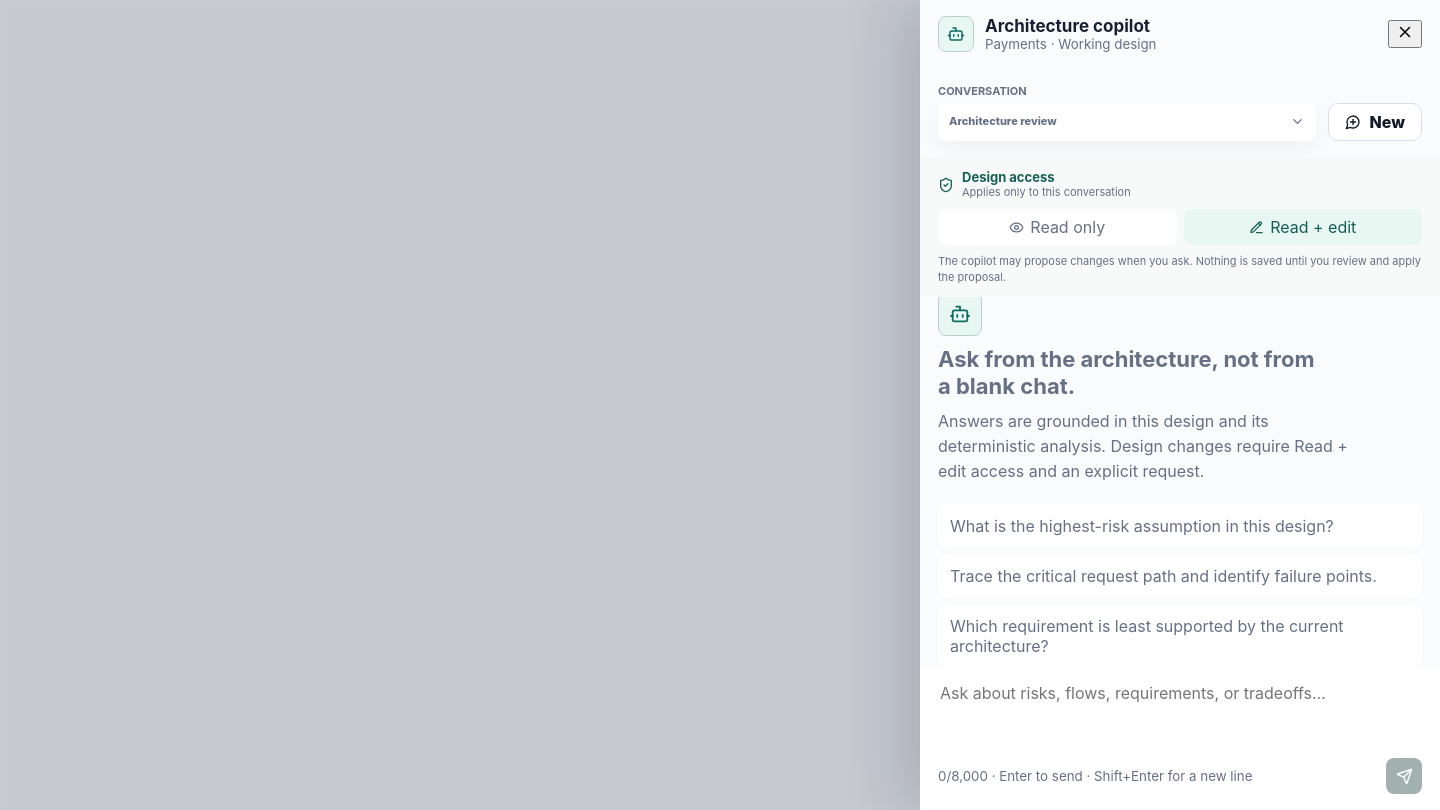
Test: AIChatPanel tool access › keeps AI changes local until Apply and lets the user discard a proposal
(page scrolled)
Expected: the button "Read + edit" is shown, [1184, 209, 1422, 245]
Type "Add a database" into the text box with placeholder "Ask about risks, flows, requirements, or tradeoffs…" at (1180, 717), box [938, 680, 1422, 754]
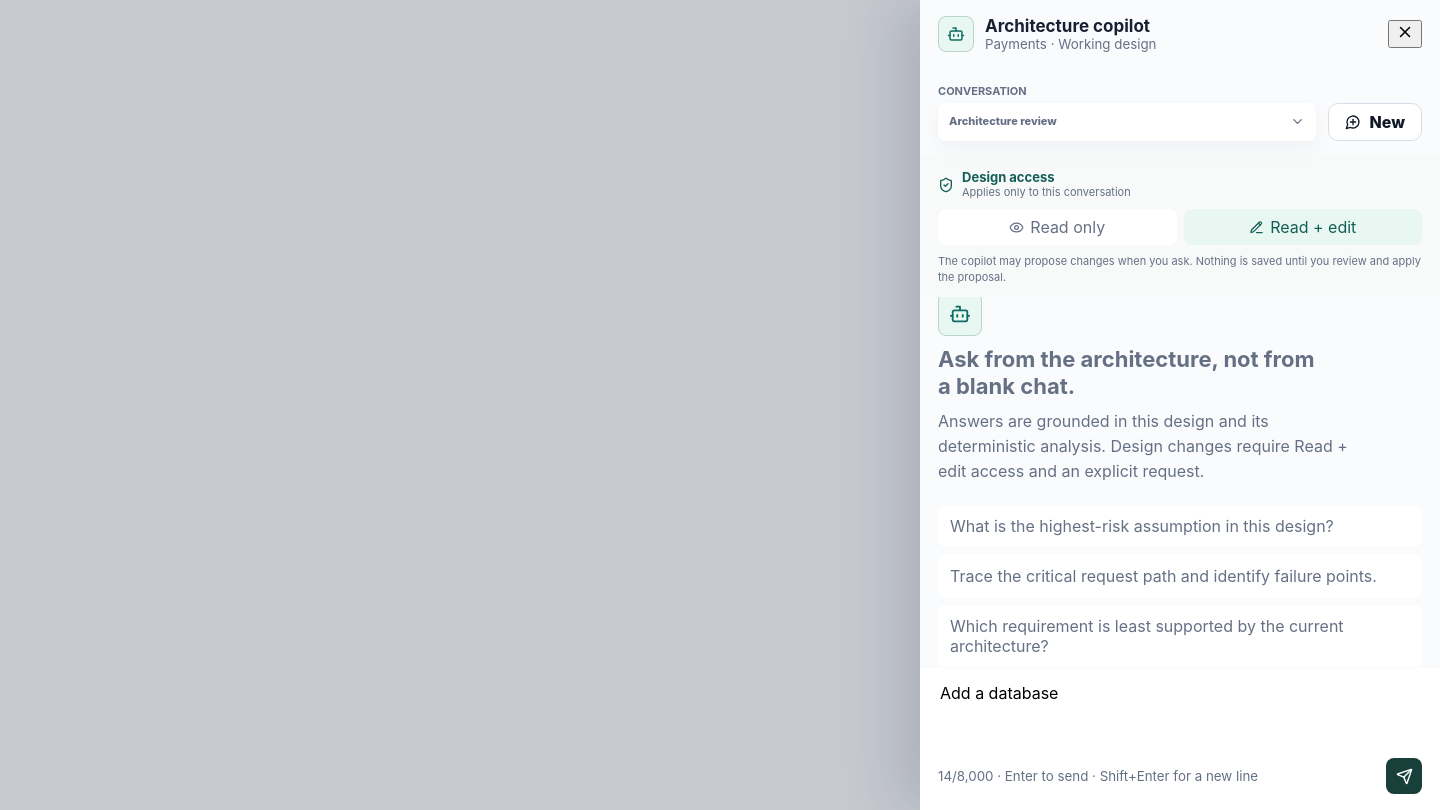
Click the button named "Send message" at (1404, 776), box [1386, 758, 1422, 794]
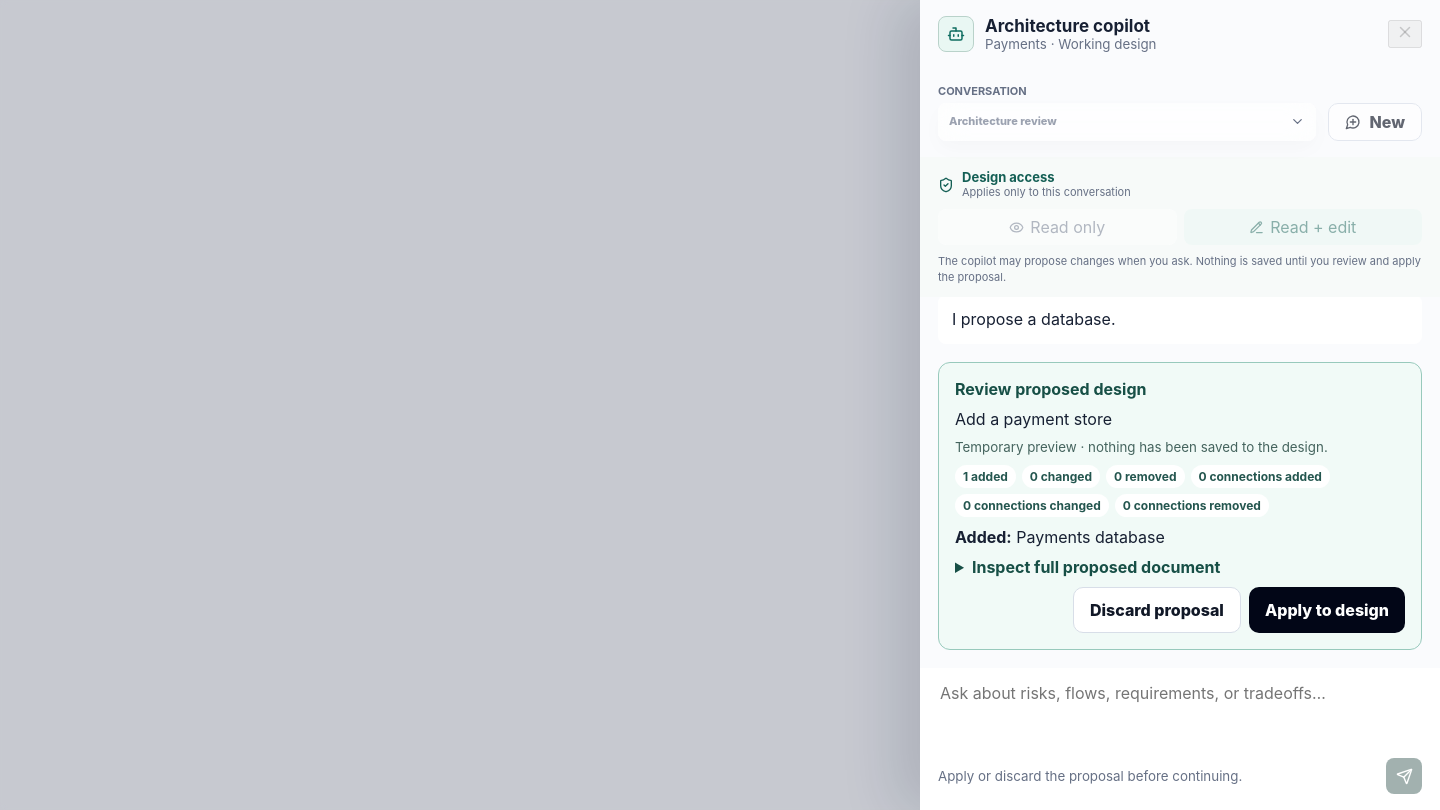
Expected: the text "Add a payment store" is shown, [955, 409, 1112, 429]
Expected: the text "Payments database" is shown, [1016, 527, 1165, 547]
Expected: the button named "Send message" is disabled, [1386, 758, 1422, 794]
Click the button "Discard proposal" at (1157, 610), box [1073, 587, 1241, 633]
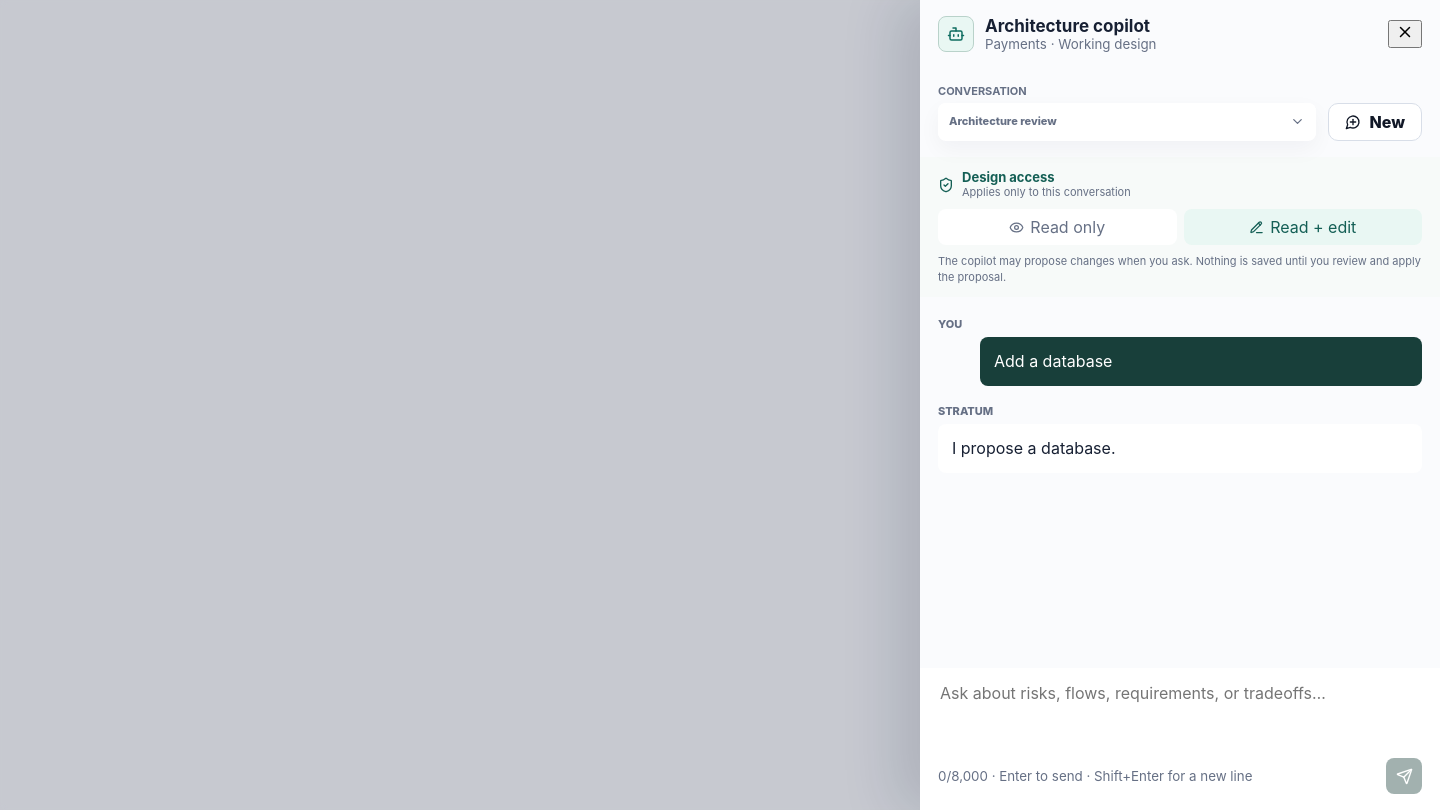
Expected: the text "Add a payment store" is gone
Type "Add a database" into the text box with placeholder "Ask about risks, flows, requirements, or tradeoffs…" at (1180, 717), box [938, 680, 1422, 754]
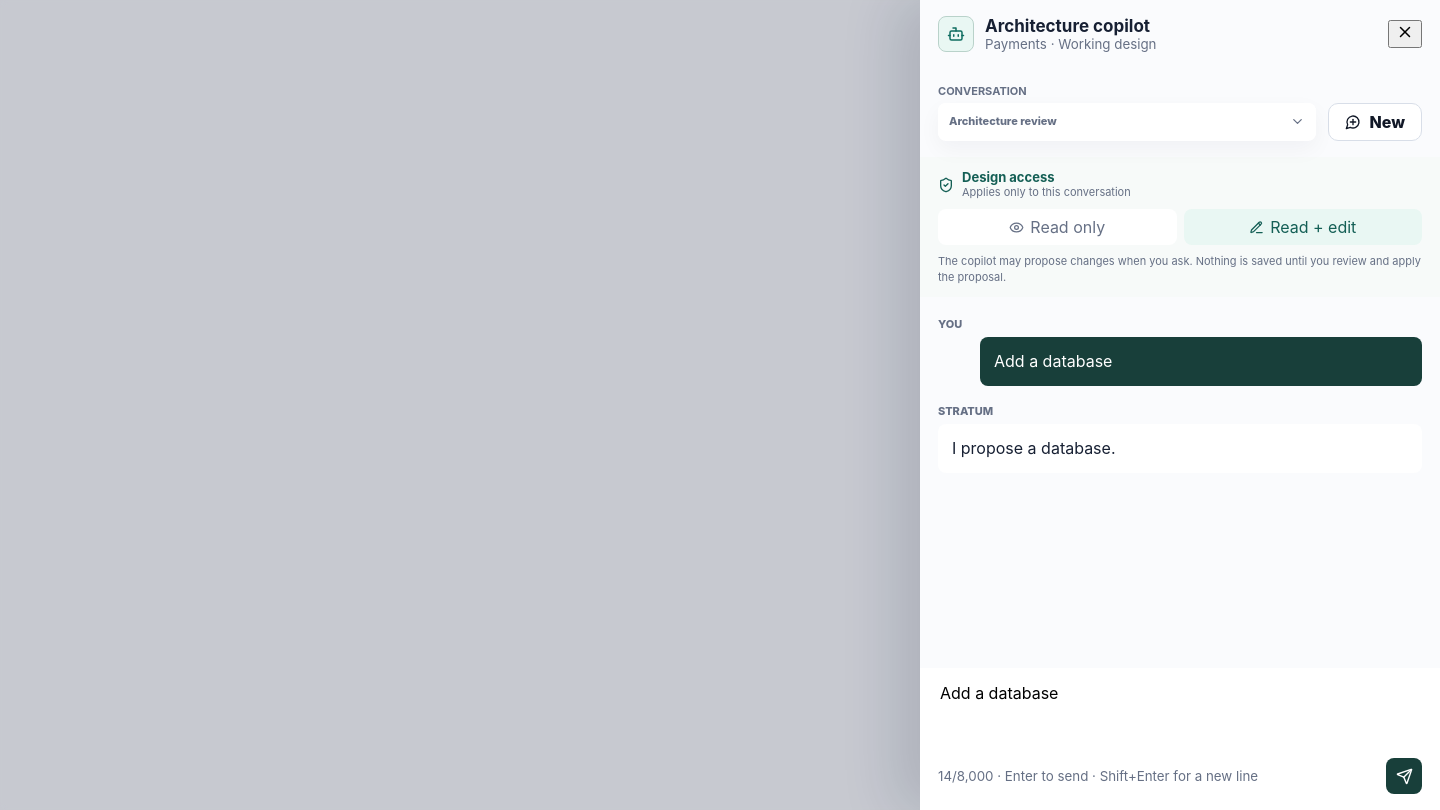
Click the button named "Send message" at (1404, 776), box [1386, 758, 1422, 794]
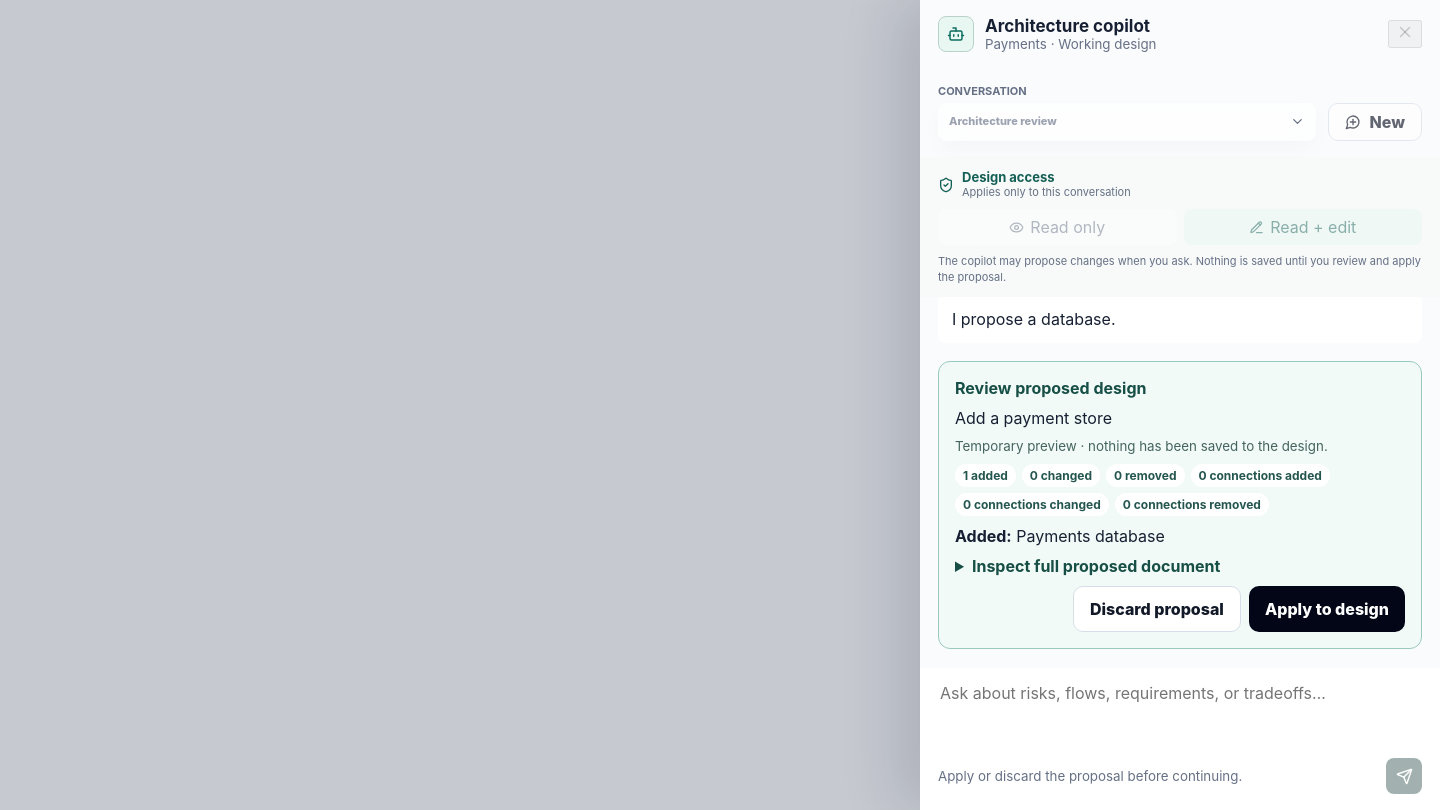
Expected: the text "Add a payment store" is shown, [955, 408, 1112, 428]
Click the button "Apply to design" at (1327, 609), box [1249, 586, 1405, 632]
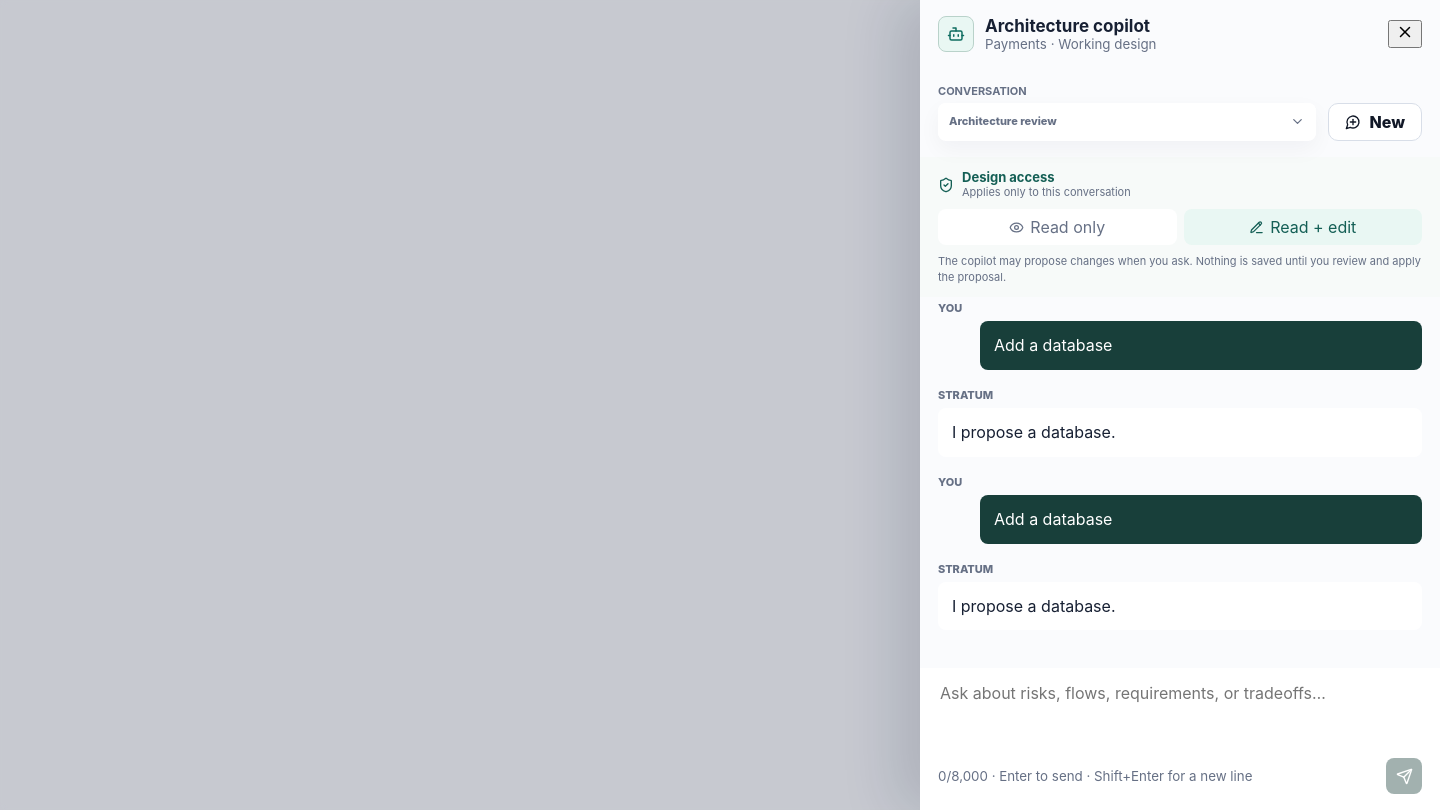
Expected: the text "Add a payment store" is gone
